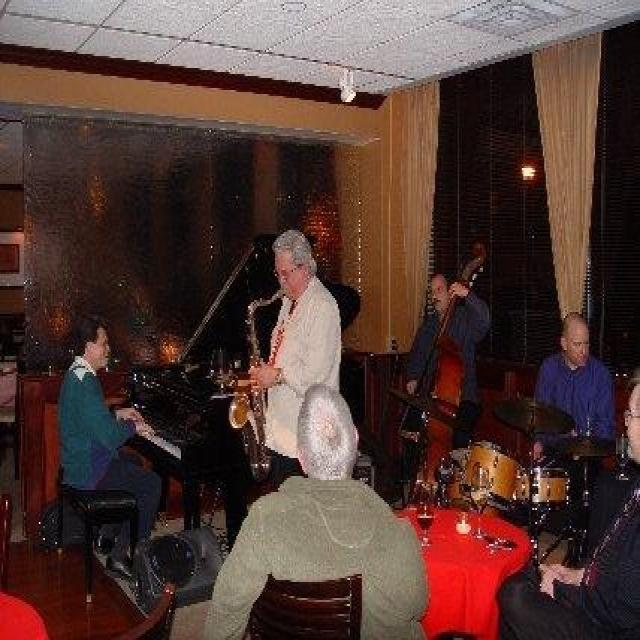cello: (396, 241, 493, 492)
drums: (432, 394, 620, 570)
saxophone: (230, 283, 288, 487)
